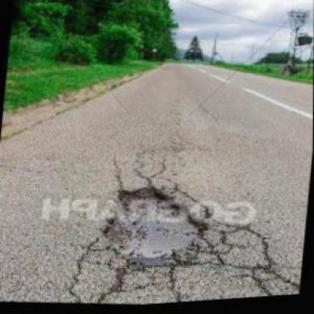Hueco: (96, 179, 214, 278)
